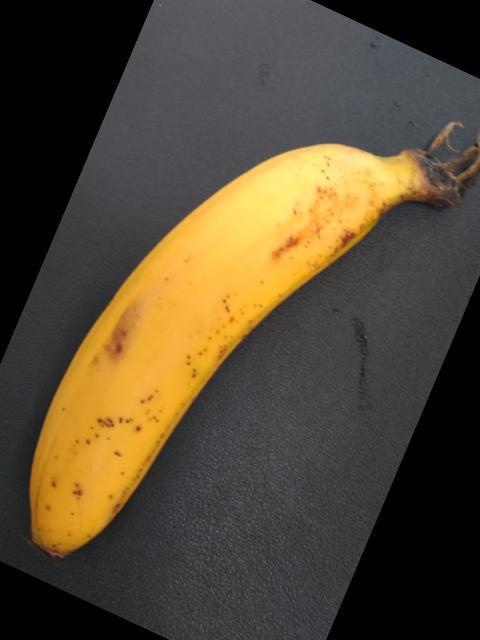ripe: (0, 118, 424, 591)
